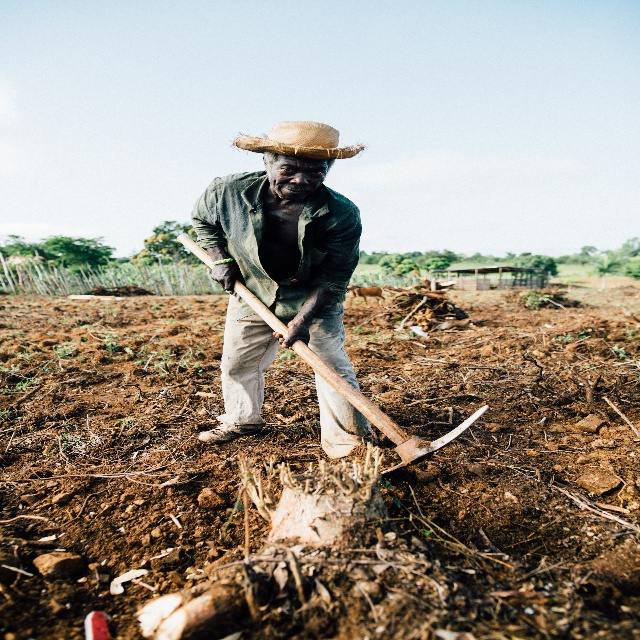Sin_guantes: (273, 314, 310, 350), (210, 256, 246, 292)
